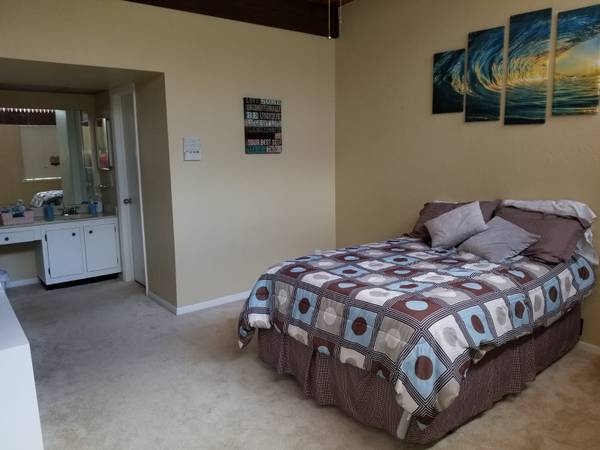bed: (257, 219, 585, 450)
frame: (242, 95, 285, 156)
